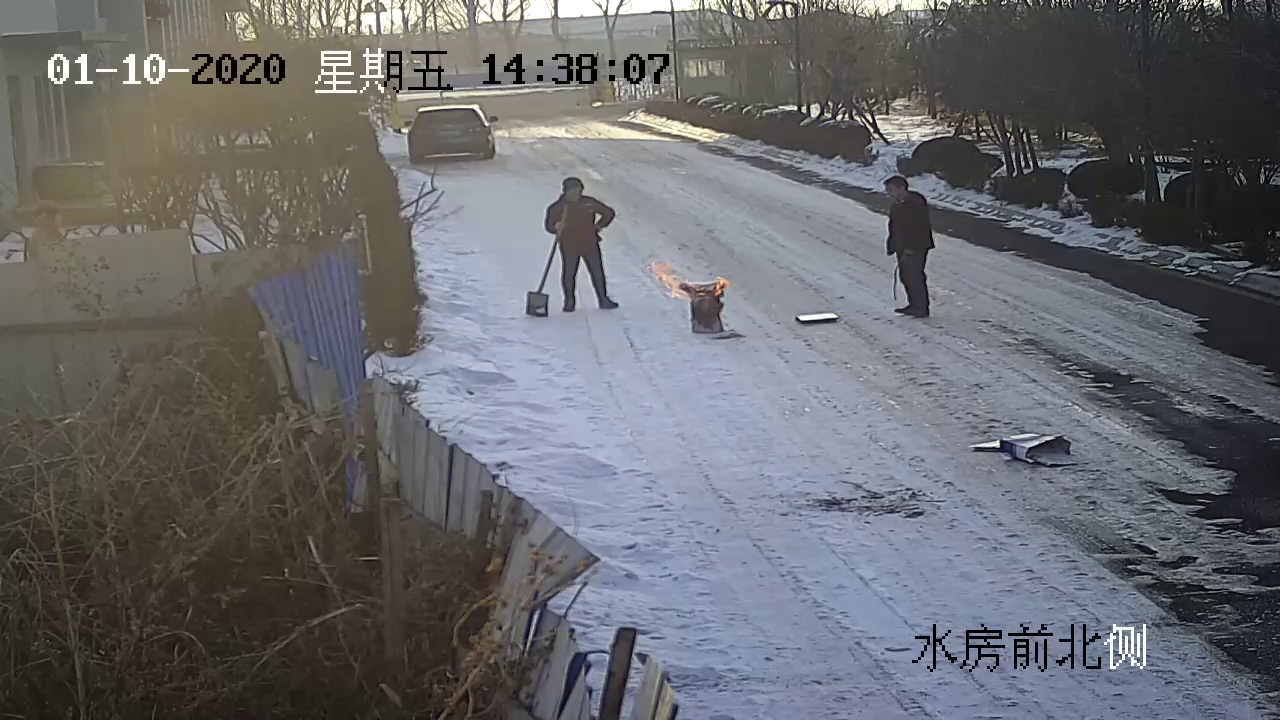fire: (651, 262, 686, 295)
